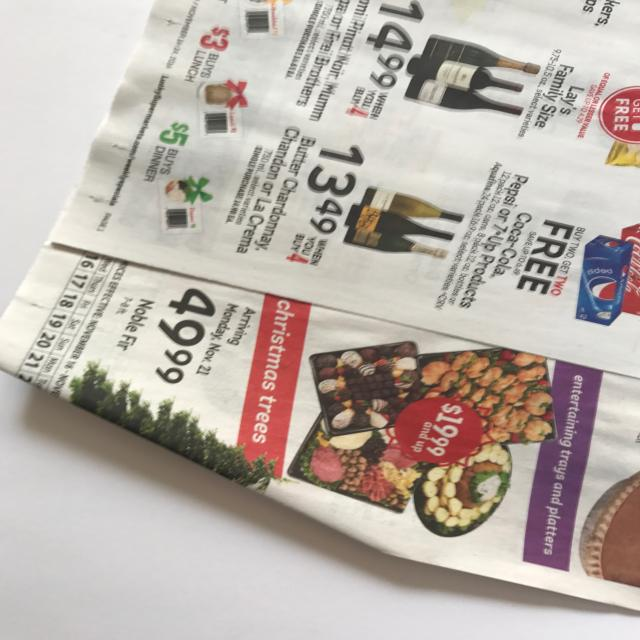paper: (0, 0, 640, 615)
